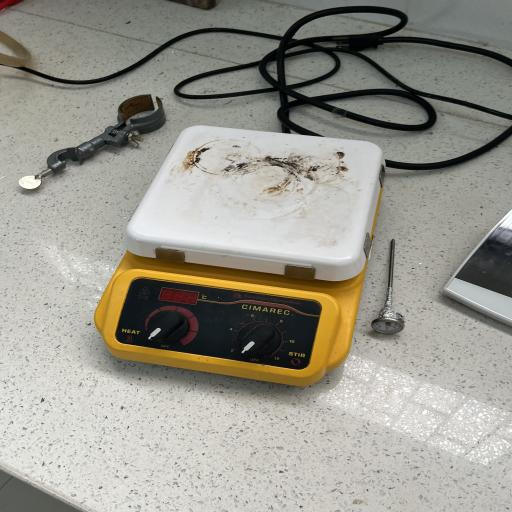Plancha_Agitacion_Cimarec: (87, 103, 402, 401)
